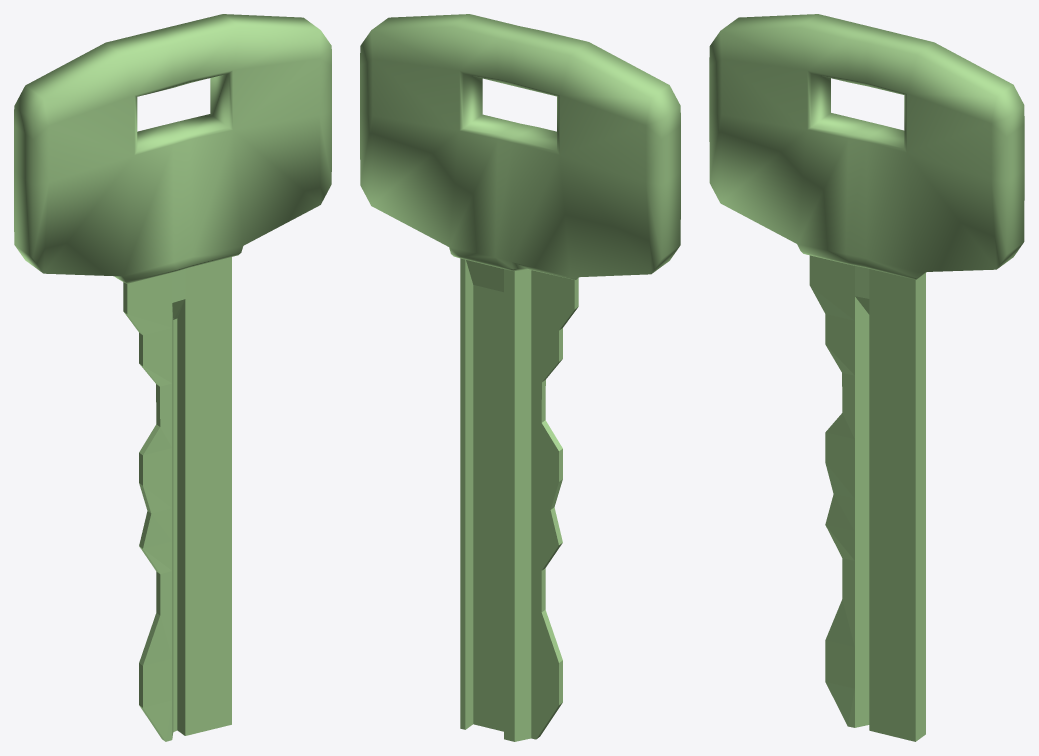
Rendered from Keys_16.FBX.
3 views of the same model, side by side, from view 1: azimuth 30°, elevation 25°; view 2: azimuth 150°, elevation 25°; view 3: azimuth 330°, elevation 25° (orthographic).
Parts seen in each view (by area): view 1: Keys_16; view 2: Keys_16; view 3: Keys_16.
Boxes of the visible parts, x1,y1,x2,y2 form: Keys_16: (14, 14, 331, 741); Keys_16: (360, 14, 680, 741); Keys_16: (709, 14, 1024, 741).
Bounding box in the file's own units: 1.22 × 2.72 × 0.1579.
